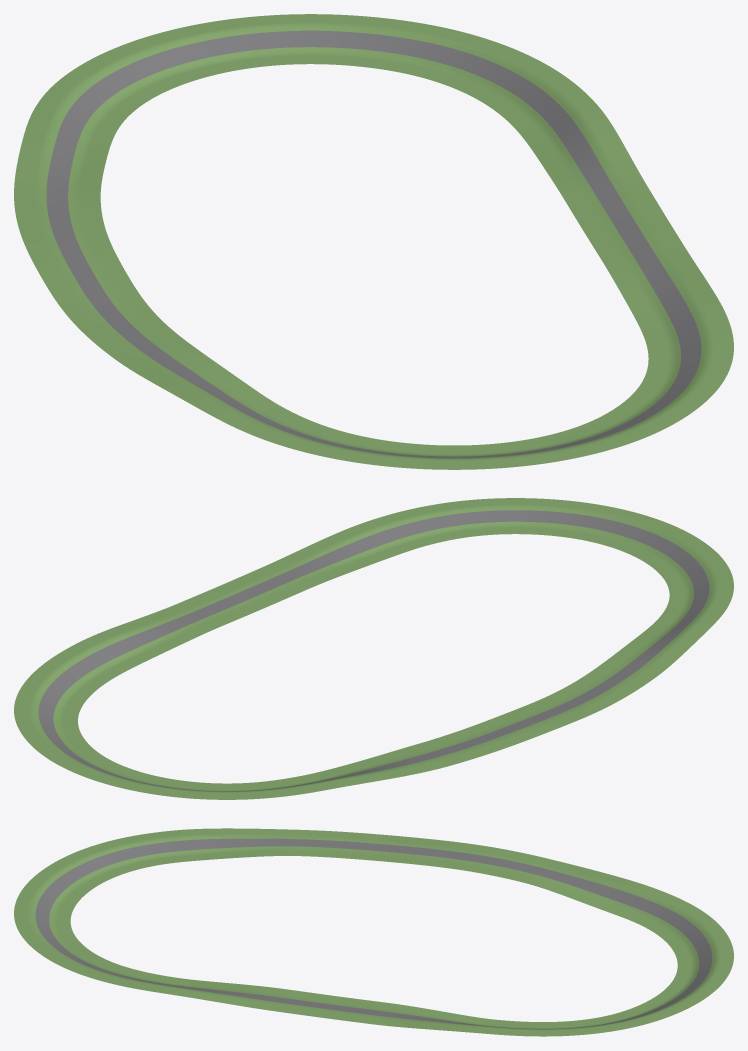
Rendered from road_mesh.glb.
3 renders of one model, top to bottom at view 1: azimuth 30°, elevation 25°; view 2: azimuth 150°, elevation 25°; view 3: azimuth 270°, elevation 25°, orthographic. The views are drawn at different scales.
Visible parts, largest first — view 1: road_10, road_09, road_11, road_08, road_07, road_06, road_05, road_00, road_12, road_13, road_01, road_04 (+2 smaller); view 2: road_04, road_05, road_08, road_03, road_06, road_07, road_09, road_13, road_00, road_01, road_02, road_12 (+2 smaller); view 3: road_02, road_12, road_01, road_11, road_03, road_13, road_00, road_07, road_06, road_04, road_10, road_05 (+2 smaller).
Part boxes in pixels (bbox=[...]): road_10: bbox=[166, 14, 374, 75]; road_09: bbox=[358, 17, 552, 102]; road_11: bbox=[38, 31, 209, 126]; road_08: bbox=[483, 68, 625, 165]; road_07: bbox=[543, 148, 671, 238]; road_06: bbox=[588, 227, 717, 316]; road_05: bbox=[634, 298, 733, 388]; road_00: bbox=[36, 262, 176, 346]; road_12: bbox=[14, 103, 119, 191]; road_13: bbox=[14, 186, 120, 267]; road_01: bbox=[99, 334, 270, 410]; road_04: bbox=[545, 382, 720, 455]; road_04: bbox=[467, 498, 626, 542]; road_05: bbox=[334, 500, 481, 561]; road_08: bbox=[37, 621, 174, 692]; road_03: bbox=[595, 510, 724, 578]; road_06: bbox=[232, 534, 377, 602]; road_07: bbox=[130, 580, 276, 647]; road_09: bbox=[14, 670, 93, 742]; road_13: bbox=[393, 716, 543, 772]; road_00: bbox=[500, 673, 641, 733]; road_01: bbox=[588, 625, 709, 686]; road_02: bbox=[651, 562, 733, 628]; road_12: bbox=[272, 751, 423, 795]; road_02: bbox=[68, 829, 202, 879]; road_12: bbox=[543, 865, 676, 923]; road_01: bbox=[196, 828, 324, 860]; road_11: bbox=[637, 897, 733, 963]; road_03: bbox=[14, 855, 107, 920]; road_13: bbox=[436, 841, 572, 888]; road_00: bbox=[320, 830, 451, 866]; road_07: bbox=[306, 994, 440, 1029]; road_06: bbox=[186, 980, 321, 1015]; road_04: bbox=[14, 912, 107, 968]; road_10: bbox=[643, 953, 733, 1009]; road_05: bbox=[66, 960, 201, 996].
Size of the model in its own units: 672 by 23.69 by 1001.
